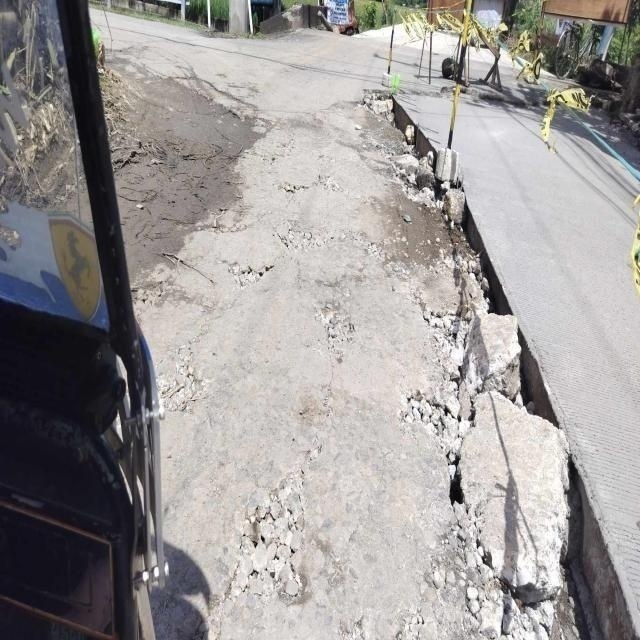pothole: (245, 148, 500, 632)
